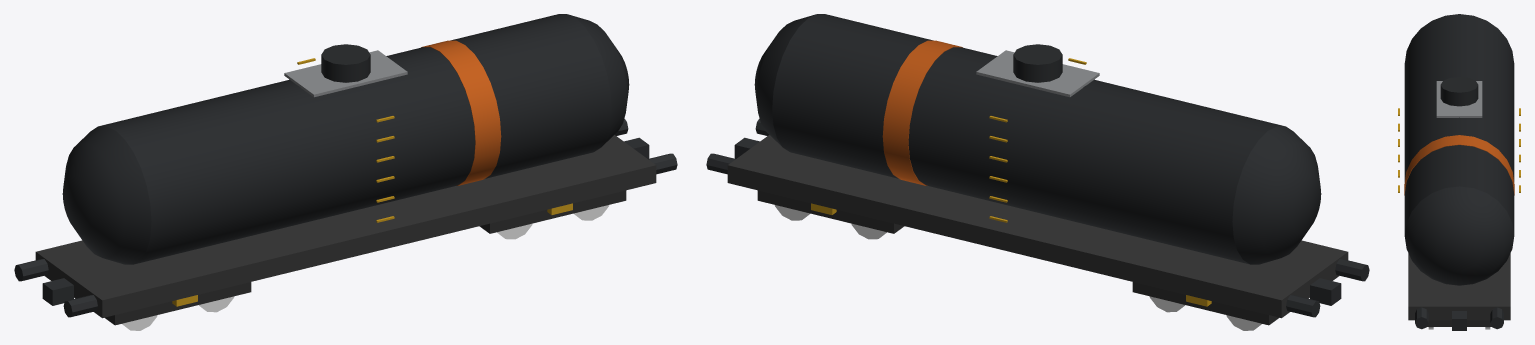
Rendered from tank-wagon.glb.
3 renders of one model, left to right at view 1: azimuth 30°, elevation 25°; view 2: azimuth 150°, elevation 25°; view 3: azimuth 270°, elevation 25°, orthographic. The views are drawn at different scales.
Visible parts, largest first — view 1: Piece_lod0; view 2: Piece_lod0; view 3: Piece_lod0.
Boxes of the visible parts, box(x1,y1,x2,y2) form: Piece_lod0: box(14, 14, 677, 330); Piece_lod0: box(706, 14, 1369, 330); Piece_lod0: box(1398, 14, 1520, 330).
Size of what is drawn, in the model's own units: 14.2 by 4.63 by 3.25.
